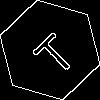T: (25, 25, 80, 79)
